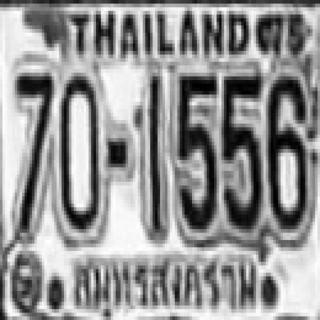N00: (62, 71, 101, 231)
N01: (144, 71, 164, 220), (149, 71, 164, 220)
N05: (176, 73, 216, 225), (222, 73, 261, 225)
N06: (266, 73, 305, 225)
N07: (14, 67, 55, 231)
P59: (72, 248, 259, 320)
